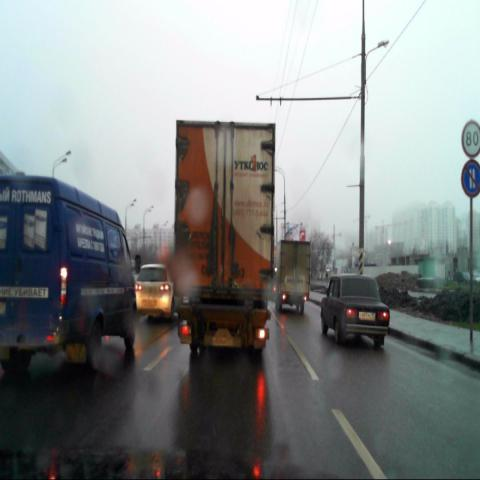3_30: (460, 159, 480, 197)
